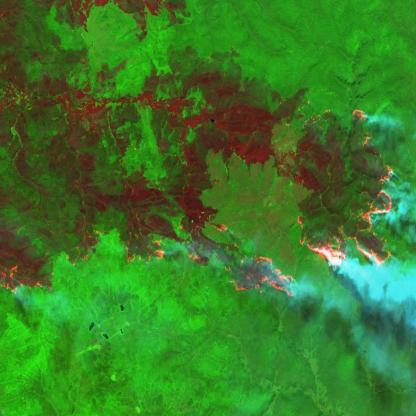fire: (0, 99, 416, 302)
